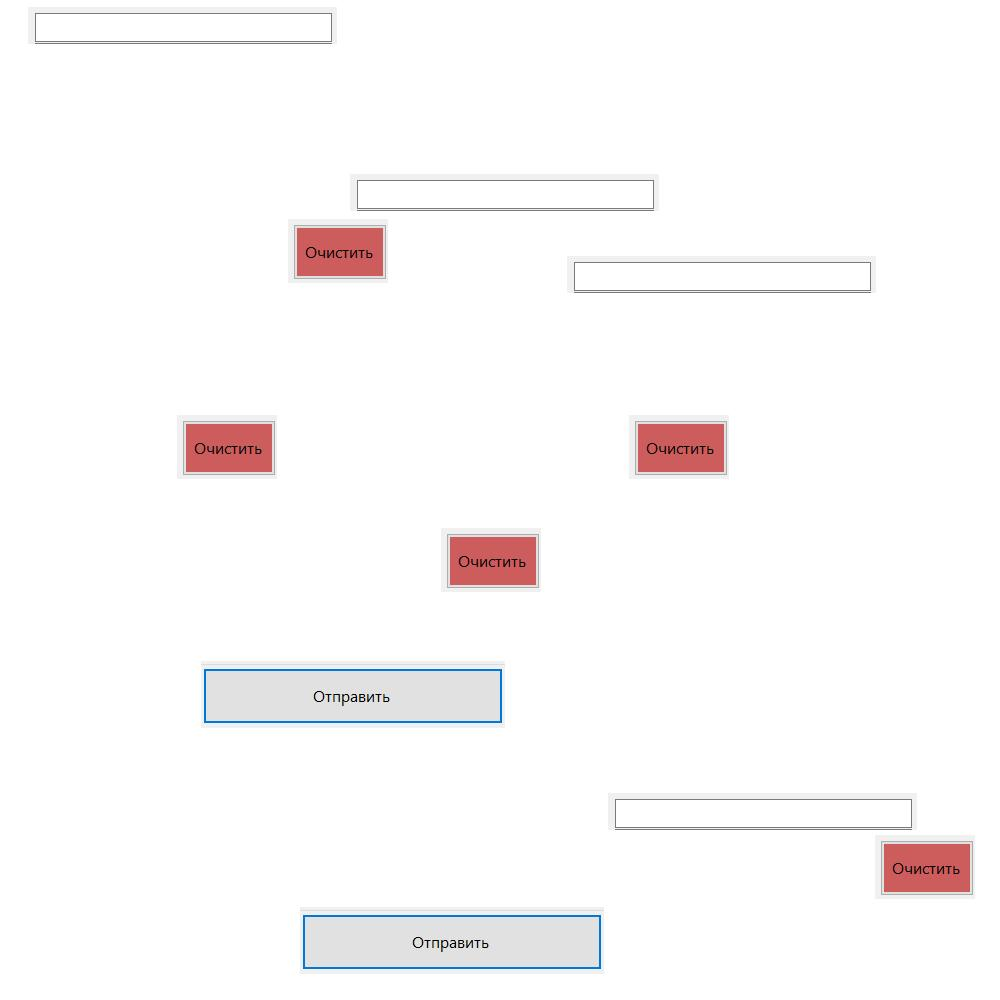Button: (300, 907, 604, 974), (201, 661, 505, 728), (177, 415, 277, 479), (288, 219, 388, 283), (441, 528, 541, 592), (629, 415, 729, 479), (875, 835, 975, 899)
EditText-: (567, 256, 876, 293), (608, 793, 917, 830), (350, 174, 659, 211), (28, 7, 337, 44)
